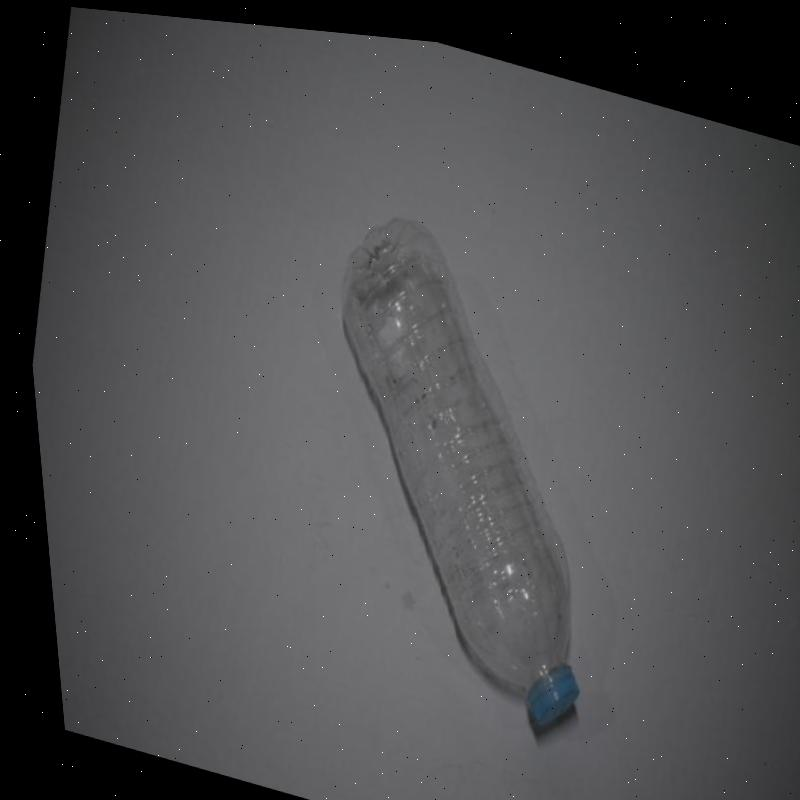botella: (253, 187, 656, 742)
